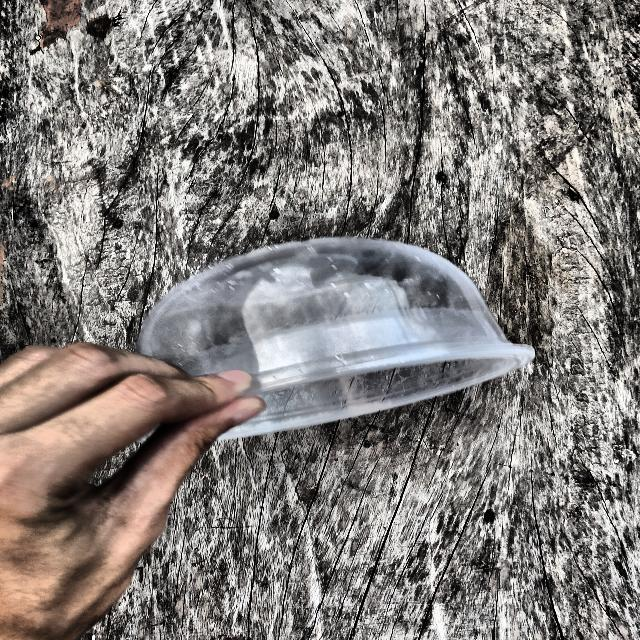plastic container: (80, 213, 526, 444)
